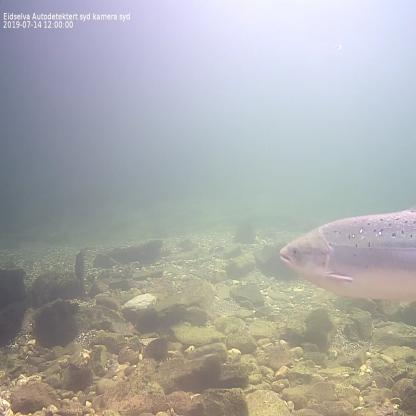salmon: (276, 201, 416, 308)
